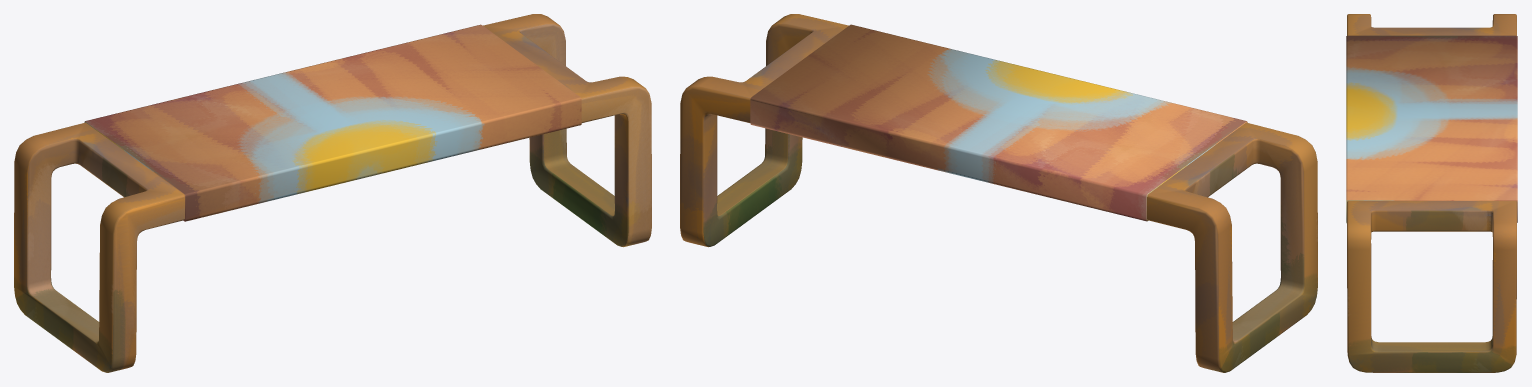
Rendered from LO_bench.glb.
3 renders of one model, left to right at view 1: azimuth 30°, elevation 25°; view 2: azimuth 150°, elevation 25°; view 3: azimuth 270°, elevation 25°, orthographic. The views are drawn at different scales.
Visible parts, largest first — view 1: Chocofur_Free_10_Concrete; view 2: Chocofur_Free_10_Concrete; view 3: Chocofur_Free_10_Concrete.
Boxes of the visible parts, box(x1,y1,x2,y2) form: Chocofur_Free_10_Concrete: box(14, 14, 651, 372); Chocofur_Free_10_Concrete: box(680, 14, 1317, 372); Chocofur_Free_10_Concrete: box(1346, 14, 1517, 372).
Bounding box in the file's own units: 1.33 × 0.3986 × 0.431.
Materials: 1 (1 with a texture image).
